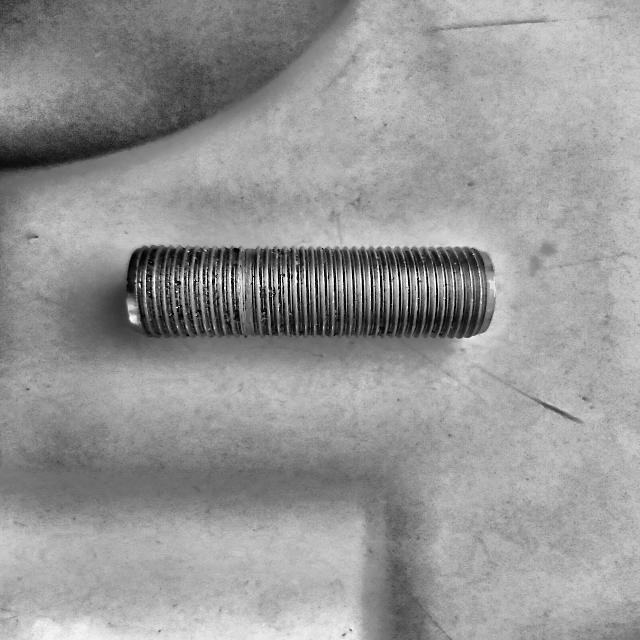Broken: (127, 244, 498, 340)
